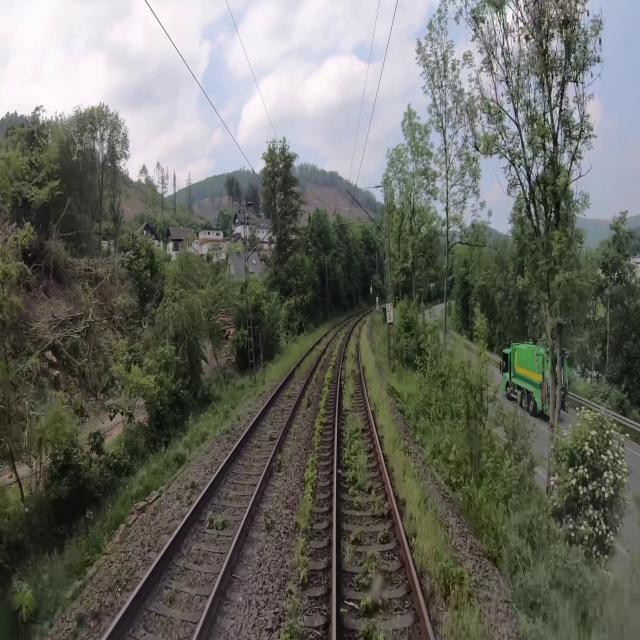Plant: (360, 343, 493, 639), (295, 328, 348, 531), (342, 410, 384, 509), (278, 536, 309, 639), (355, 550, 387, 616), (341, 336, 358, 410), (206, 510, 227, 531), (360, 622, 383, 639), (262, 508, 276, 531), (349, 527, 365, 544), (378, 528, 389, 543)
